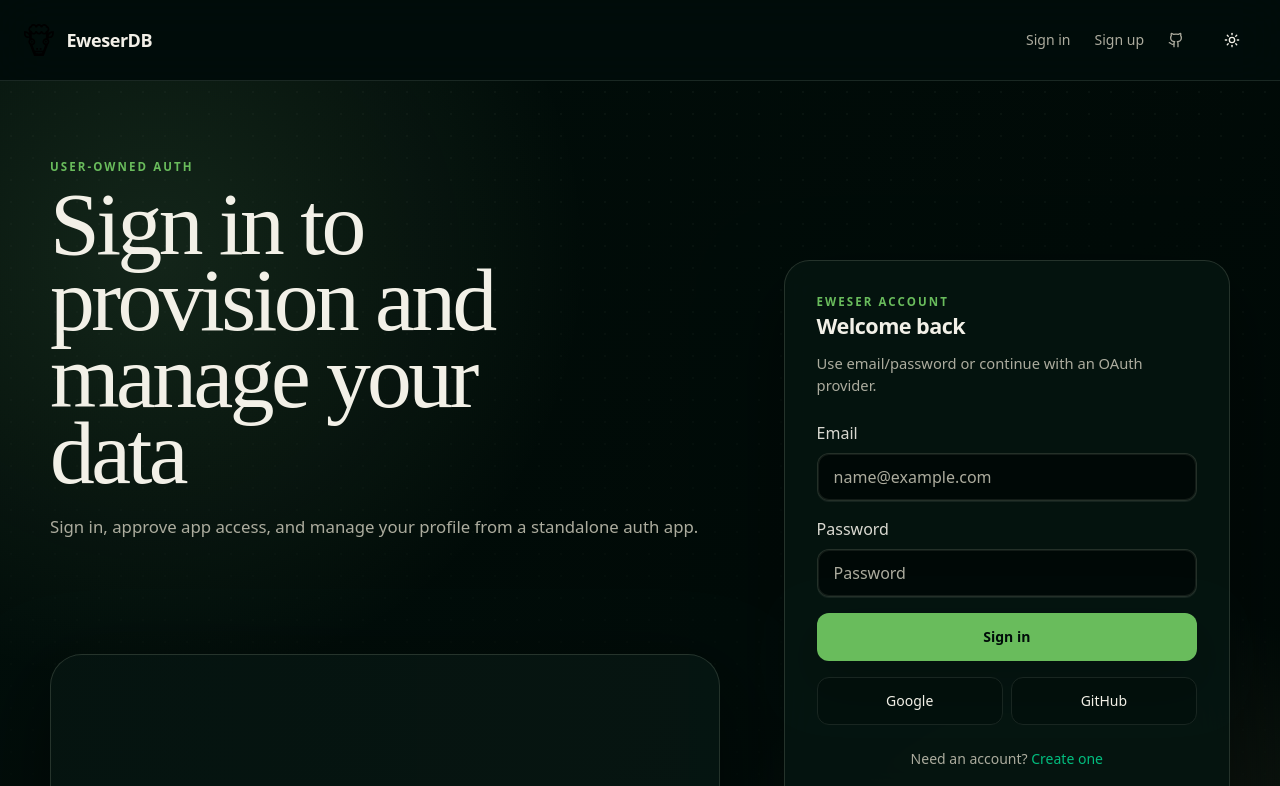
Test: auth-pages app › should sign in and redirect to the permission page when a login query is present
Step 1. Type "test@example.com" into the field labelled "Email" → (1007, 477), box left=817, top=453, right=1197, bottom=501
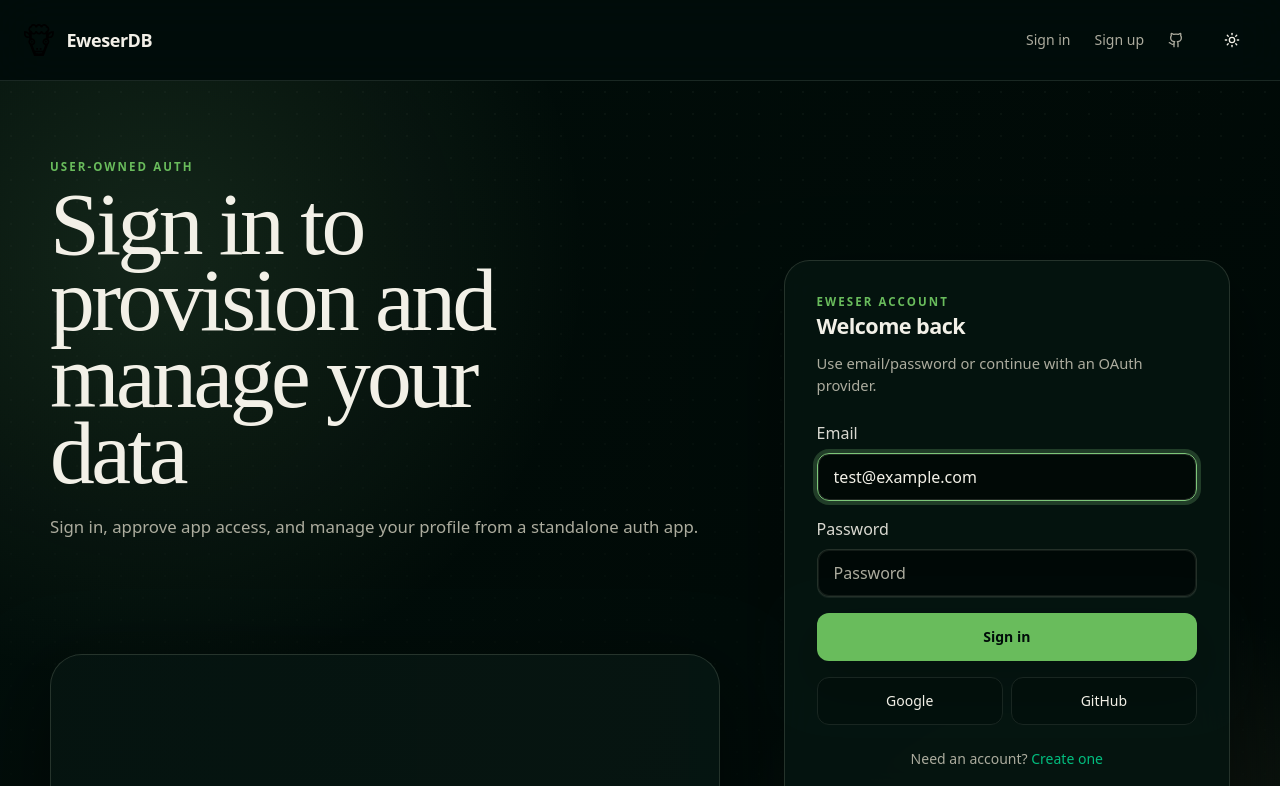
Step 2. Type "password123" into the password field labelled "Password" → (1007, 573), box left=817, top=549, right=1197, bottom=597
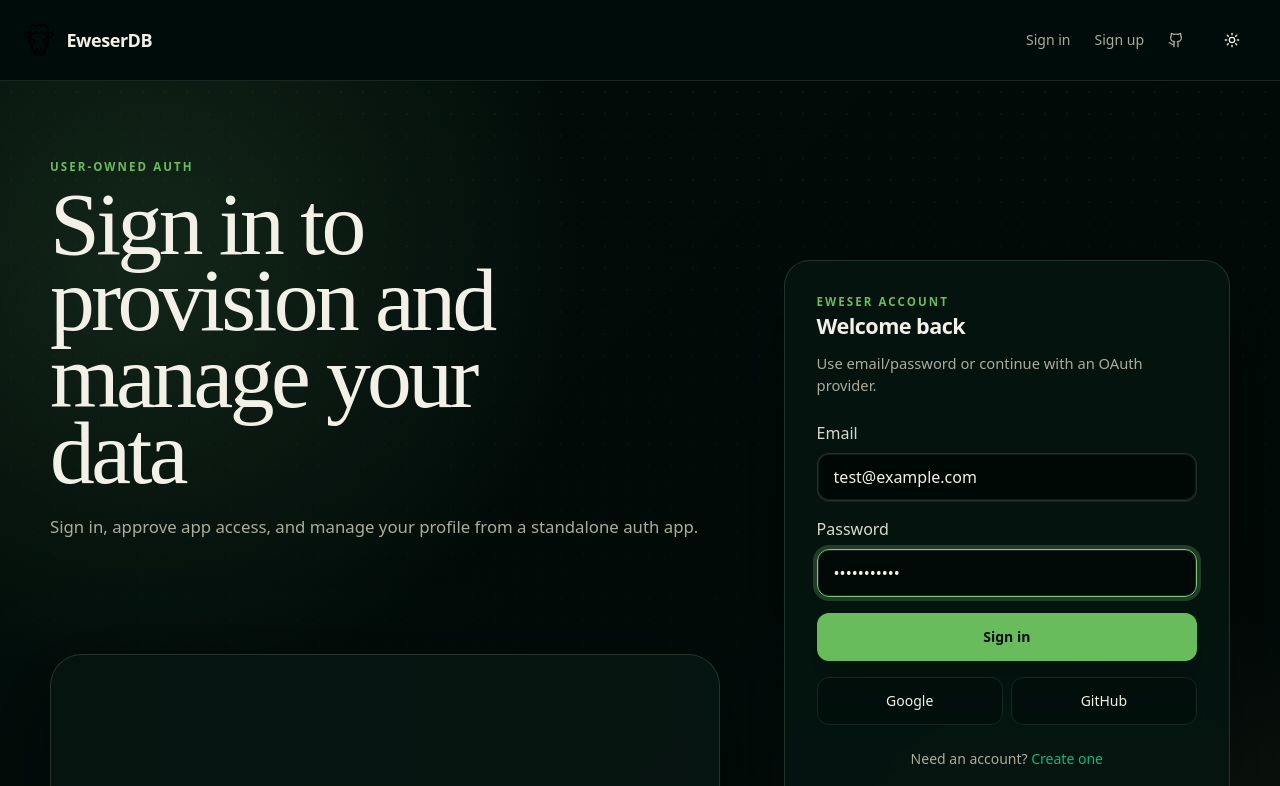
Step 3. Click the button "Sign in" → (1007, 637), box left=817, top=613, right=1197, bottom=661
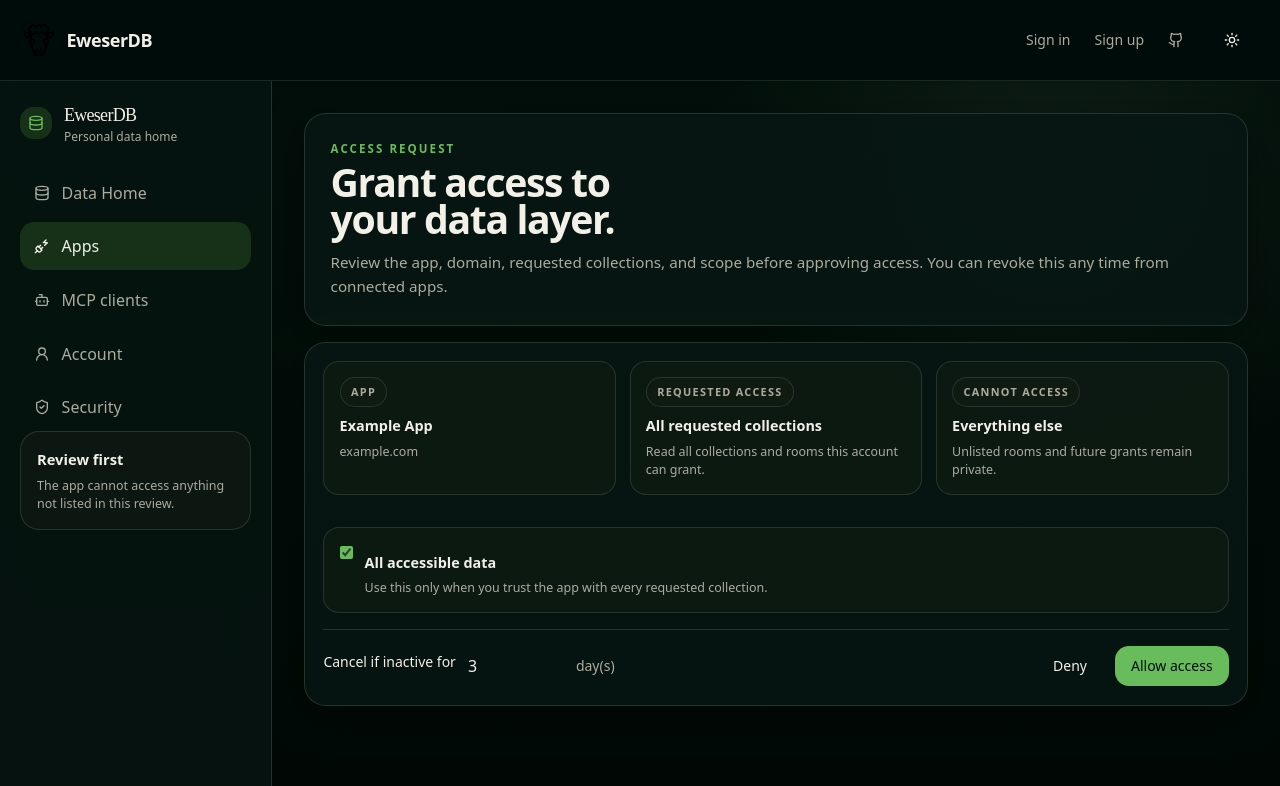
Expected: the heading "Grant access to your data layer." is shown, left=331, top=163, right=622, bottom=238
